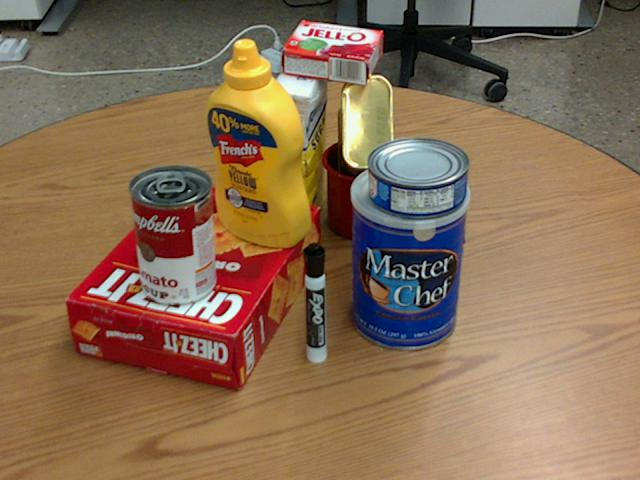cracker_box: (67, 185, 321, 390)
gelatin_box: (279, 22, 383, 85)
large_marker: (304, 243, 326, 363)
master_chef_can: (349, 159, 468, 349)
mug: (324, 136, 431, 239)
mustard_bottle: (204, 39, 309, 246)
potted_meat_can: (336, 76, 393, 191)
sugar_box: (270, 53, 328, 243)
tomato_soup_can: (128, 164, 216, 305)
tuna_fish_can: (366, 136, 468, 217)
